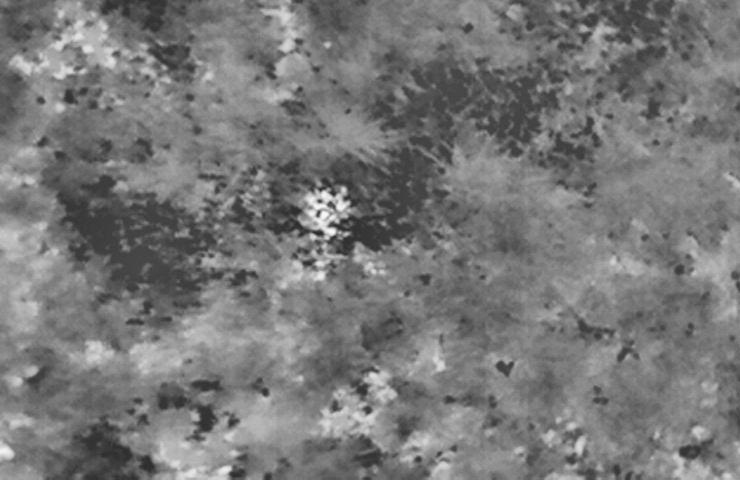landmines: (296, 183, 373, 247)
